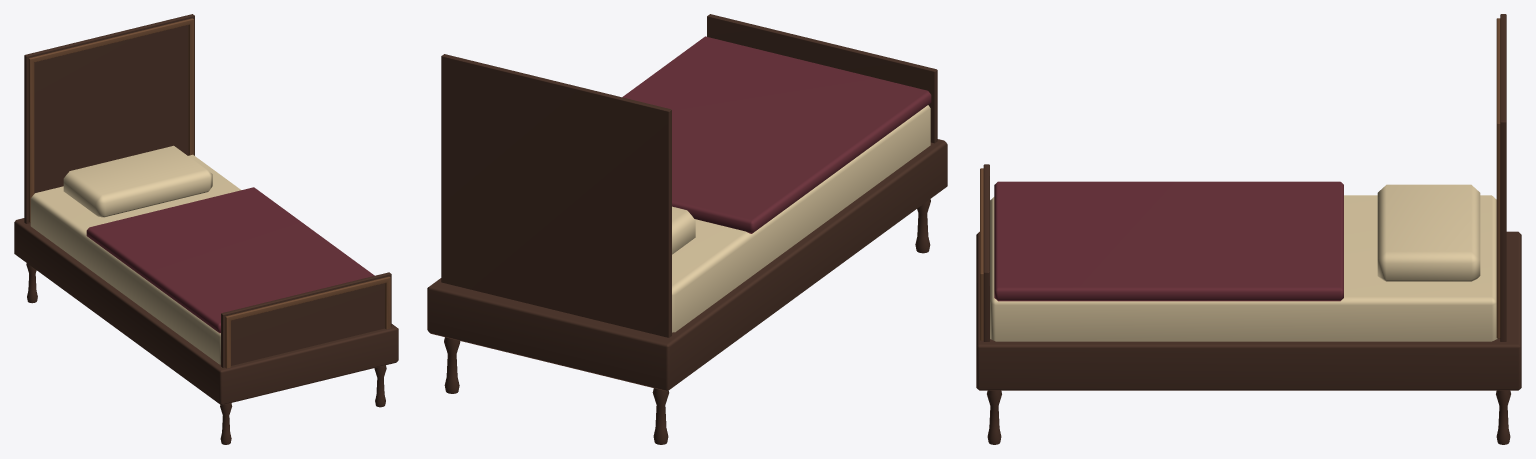
Rendered from rpg-mansion-single-bed-01.glb.
The picture shows the model from 3 angles, left to right: view 1: azimuth 30°, elevation 25°; view 2: azimuth 150°, elevation 25°; view 3: azimuth 270°, elevation 25°; orthographic projection. The views are drawn at different scales.
Visible parts, largest first — view 1: rpg-mansion-single-bed-01; view 2: rpg-mansion-single-bed-01; view 3: rpg-mansion-single-bed-01.
Boxes of the visible parts, x1=… form: rpg-mansion-single-bed-01: x1=14, y1=14, x2=398, y2=444; rpg-mansion-single-bed-01: x1=427, y1=14, x2=947, y2=444; rpg-mansion-single-bed-01: x1=976, y1=14, x2=1521, y2=444.
Size of the model in its own units: 1.06 by 1.39 by 2.12.
